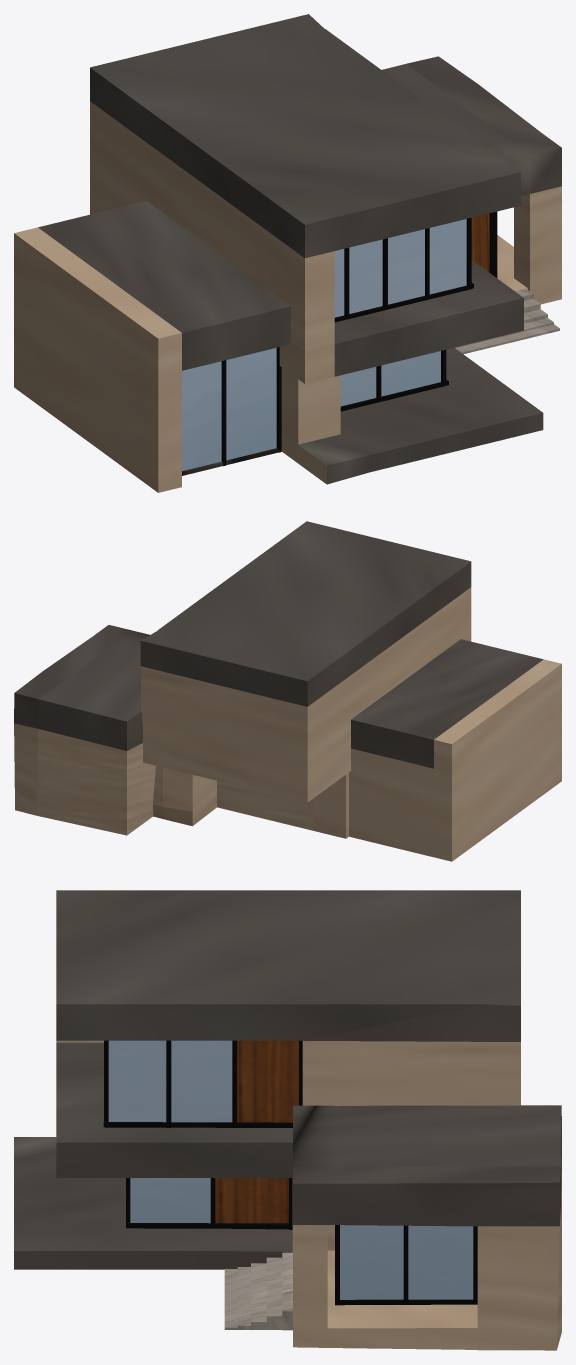
File: villa 1.fbx
3 renders of one model, top to bottom at view 1: azimuth 30°, elevation 25°; view 2: azimuth 150°, elevation 25°; view 3: azimuth 270°, elevation 25°, orthographic. The views are drawn at different scales.
Parts seen in each view (by area): view 1: Cube.007; view 2: Cube.007; view 3: Cube.007.
Part boxes in pixels (box(x1,y1,x2,y2)): Cube.007: box(14, 14, 561, 492); Cube.007: box(14, 521, 561, 861); Cube.007: box(14, 890, 561, 1350).
Bounding box in the file's own units: 901 × 425 × 790.
1 material, 1 textured.
